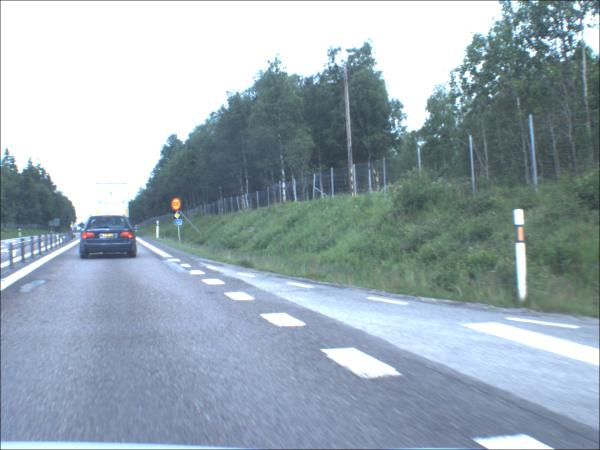100_SIGN: (173, 199, 183, 212)
PRIORITY_ROAD: (175, 213, 182, 221)
